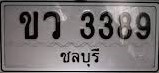txt02: (18, 10, 40, 41)
txt32: (42, 10, 62, 40)
